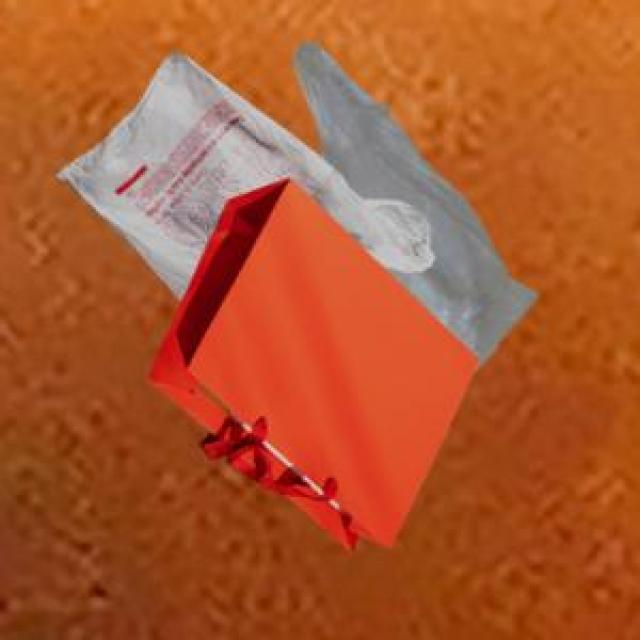paper: (145, 175, 474, 548)
